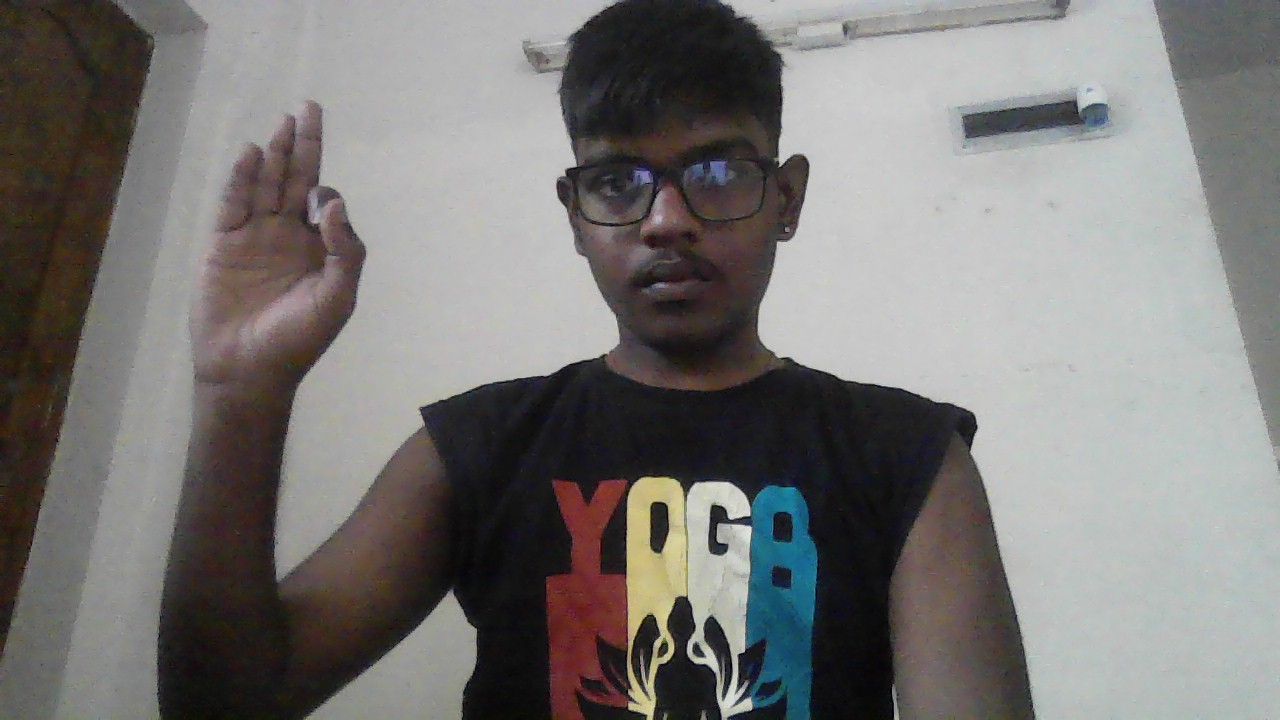F: (189, 99, 367, 395)
